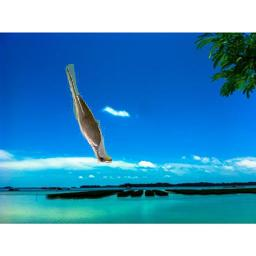Cuckoo: (64, 65, 112, 164)
